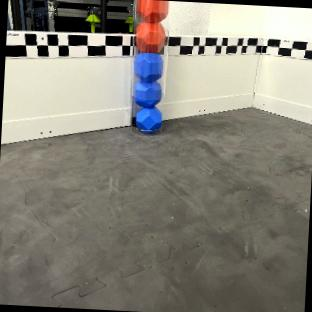Loader: (127, 0, 172, 133)
V5_BLUE: (133, 52, 163, 79), (133, 78, 161, 106), (135, 106, 161, 131)
V5_RED: (134, 19, 165, 51), (136, 0, 167, 22)
